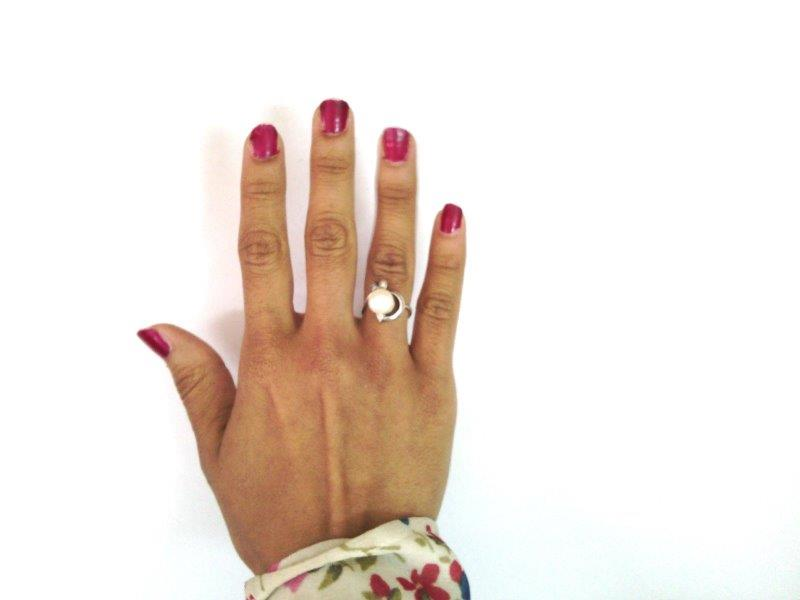hand: (135, 100, 466, 547)
